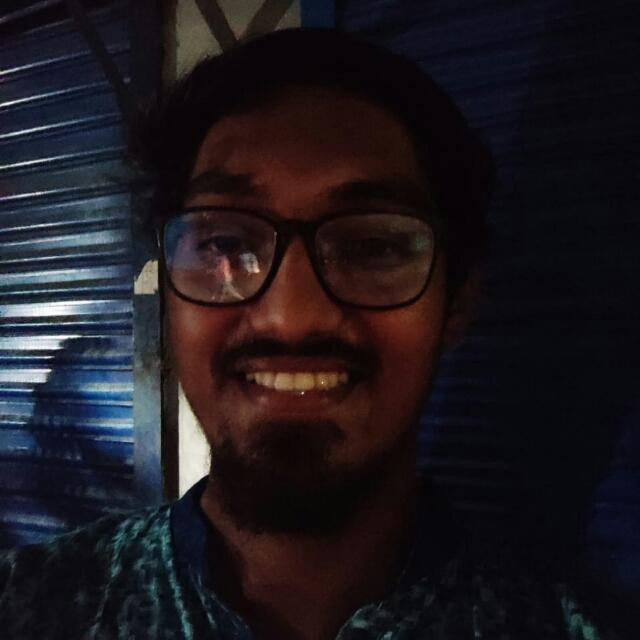Happy: (96, 85, 481, 489)
